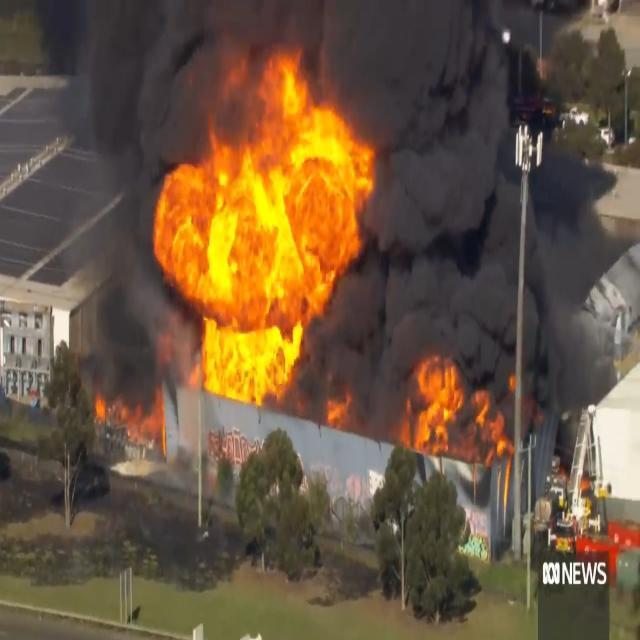fire: (154, 67, 374, 433), (414, 352, 515, 465)
